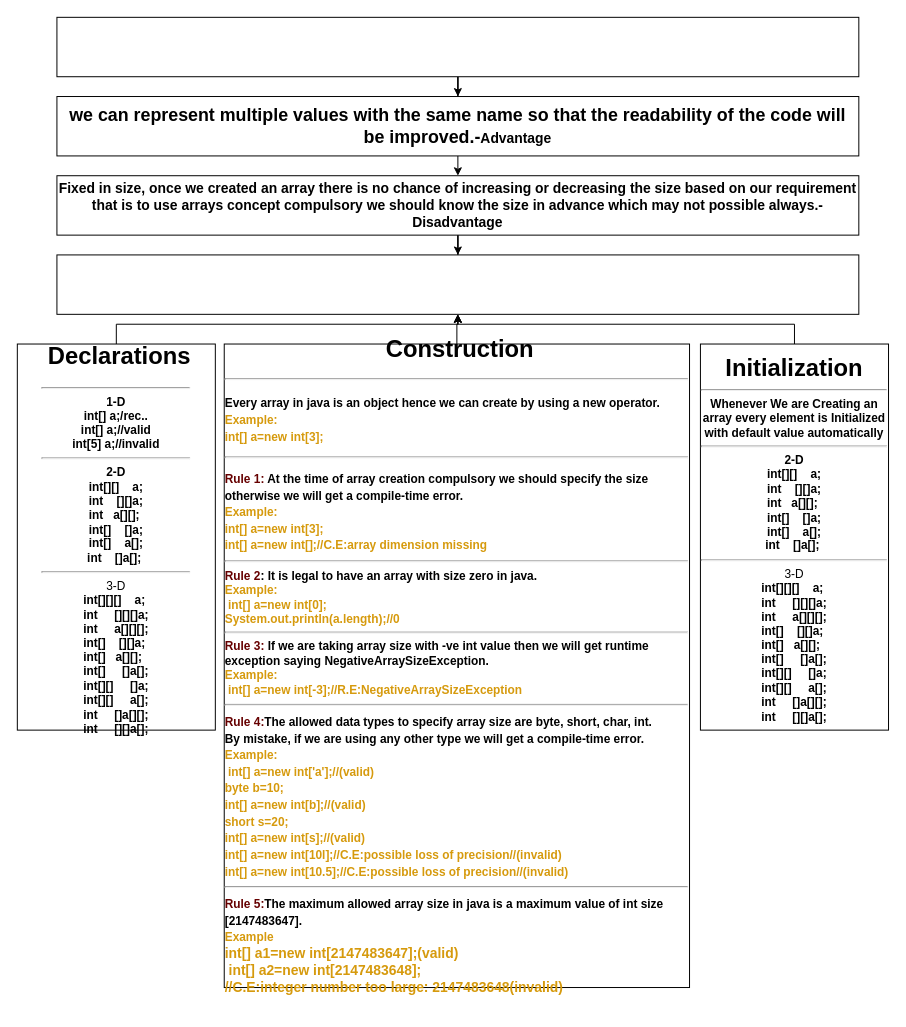
This 906x1027 diagram has some shape labels left out. Each missing label, with the centre of its shape:
An array is an indexed collection of fixed number of homogeneous data elements.: the point at 457,46
We can Resolve This Problem Using Collection: the point at 457,284
